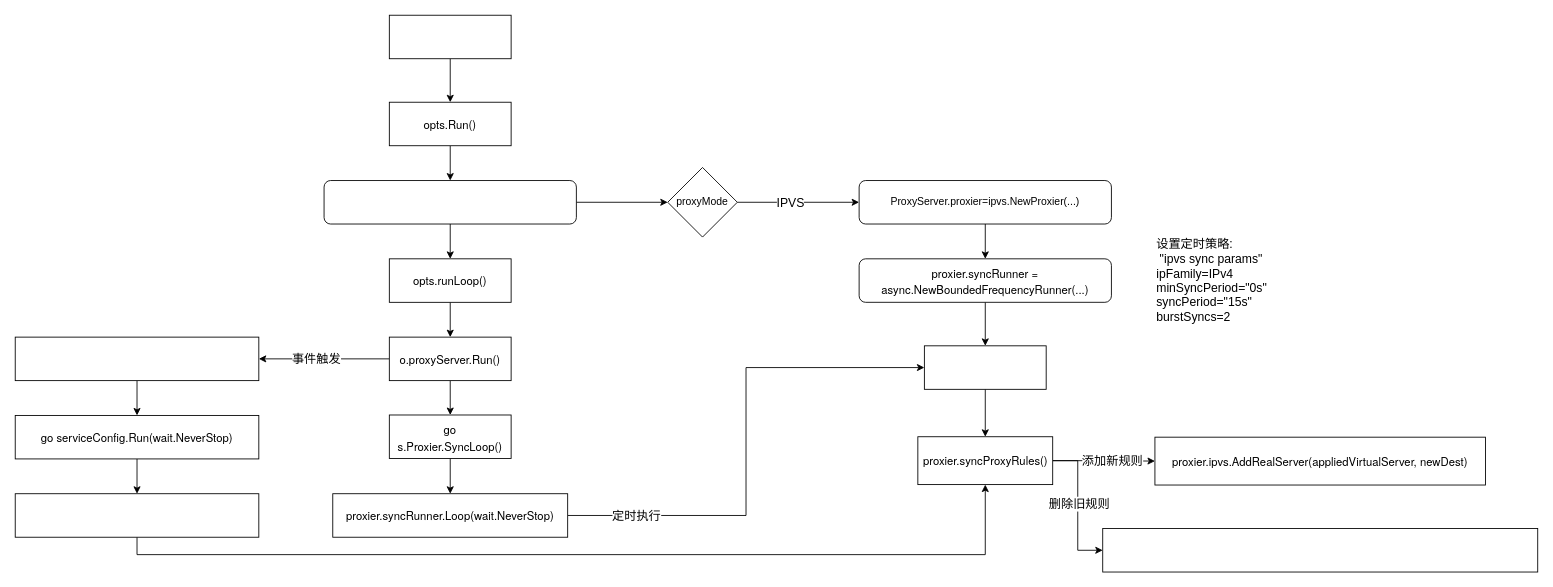
Image size: 1553x587. Some labels were removed from this diagram. The shapes that lost their labels are listed below. From the top down, each one's centre as x and y in pixels, then its label:
At [449,36]: "NewProxyCommand()".
At [449,202]: "o.proxyServer = NewProxyServer(o)".
At [136,358]: "serviceConfig.RegisterEventHandler(s.Proxier)".
At [985,367]: "bfr.Loop()".
At [136,515]: "proxier.ipv4Proxier.OnServiceSynced()".
At [1320,550]: "proxier.gracefuldeleteManager.GracefulDeleteRS(appliedVirtualServer, delDest)".
